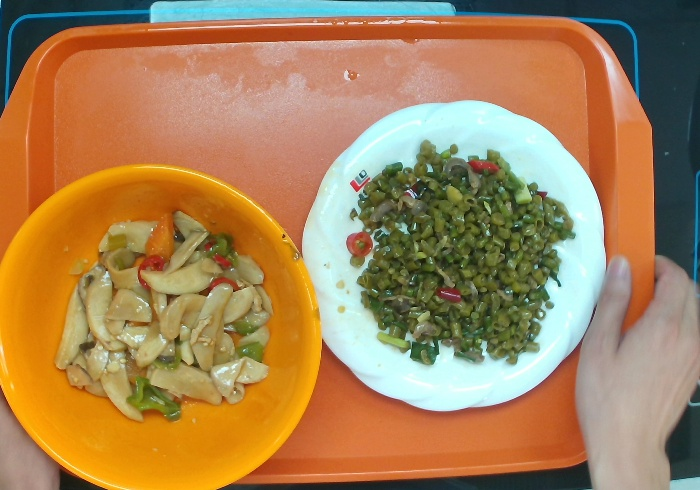ZNLD-Hua_Bian_Wan: (304, 98, 609, 416)
ZNLD-Ju_Se_Tang_Wan: (4, 163, 325, 490)
